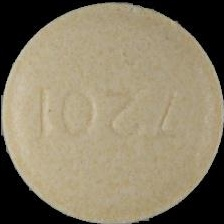54458-926: (0, 0, 224, 224)
